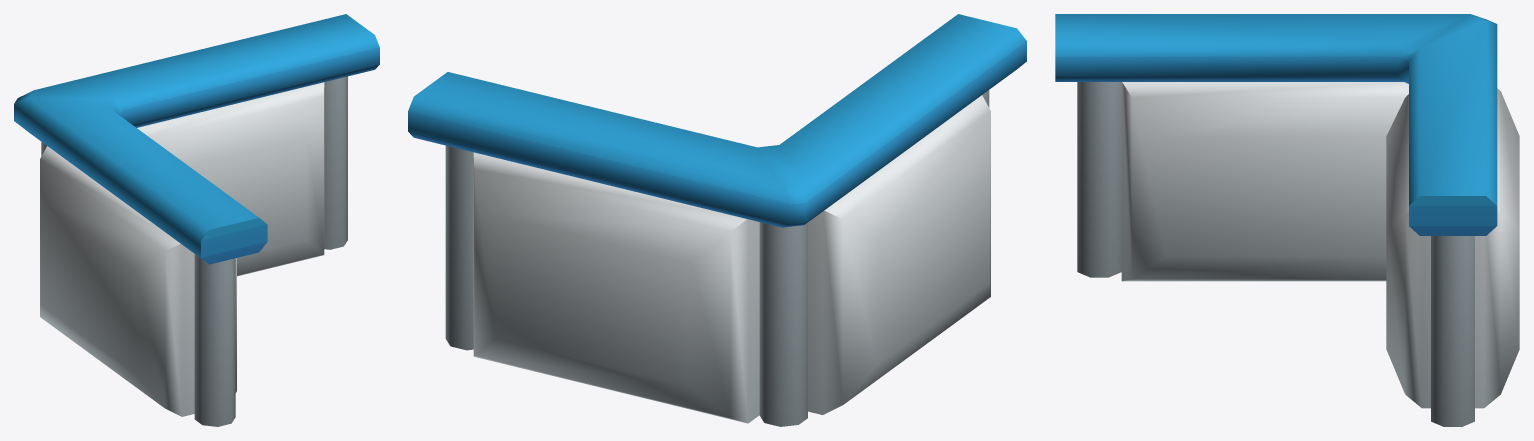
File: railing-corner-padded-blue.glb
3 renders of one model, left to right at view 1: azimuth 30°, elevation 25°; view 2: azimuth 150°, elevation 25°; view 3: azimuth 270°, elevation 25°, orthographic. The views are drawn at different scales.
Parts seen in each view (by area): view 1: railing_corner_padded_blue; view 2: railing_corner_padded_blue; view 3: railing_corner_padded_blue.
Part boxes in pixels (left/top/right/bottom): railing_corner_padded_blue: left=14, top=14, right=379, bottom=426; railing_corner_padded_blue: left=408, top=14, right=1026, bottom=426; railing_corner_padded_blue: left=1055, top=14, right=1519, bottom=426.
Bounding box in the file's own units: 2.1 × 1.2 × 2.1.
1 material, 1 textured.
